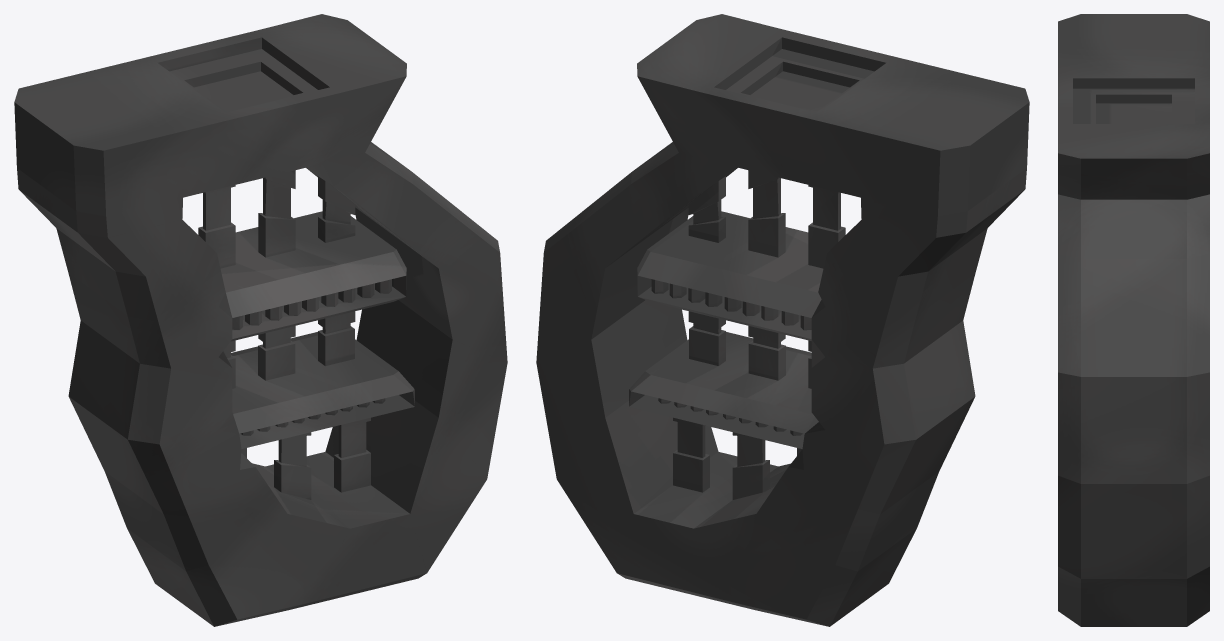
The model's file is SkeletalHandle.fbx.
3 views of the same model, side by side, from view 1: azimuth 30°, elevation 25°; view 2: azimuth 150°, elevation 25°; view 3: azimuth 270°, elevation 25° (orthographic). The views are drawn at different scales.
Visible parts, largest first — view 1: SkeletalHandle; view 2: SkeletalHandle; view 3: SkeletalHandle.
Part boxes in pixels (x1=…): SkeletalHandle: x1=14, y1=14, x2=507, y2=626; SkeletalHandle: x1=536, y1=14, x2=1029, y2=626; SkeletalHandle: x1=1058, y1=14, x2=1209, y2=626.
Bounding box in the file's own units: 21.95 × 25.2 × 7.49.
